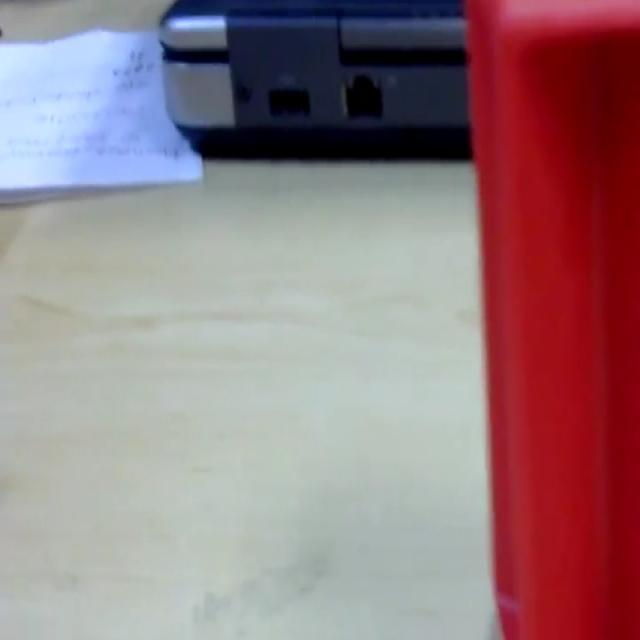red_block: (464, 1, 638, 636)
